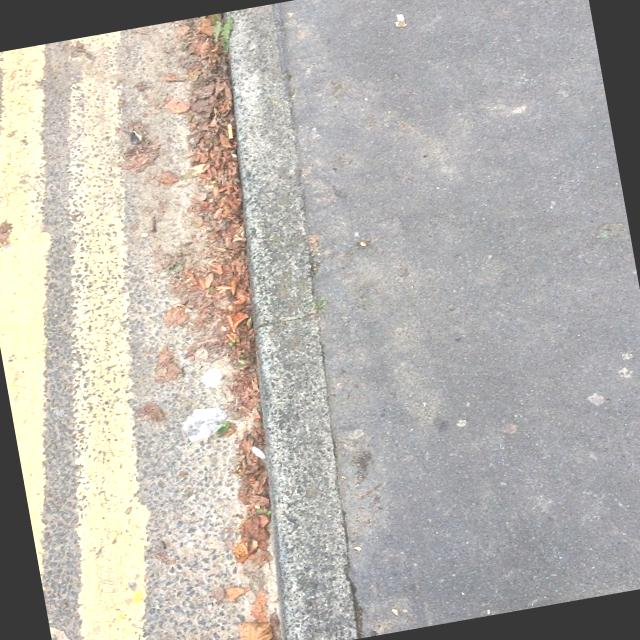Trash: (180, 359, 240, 458)
